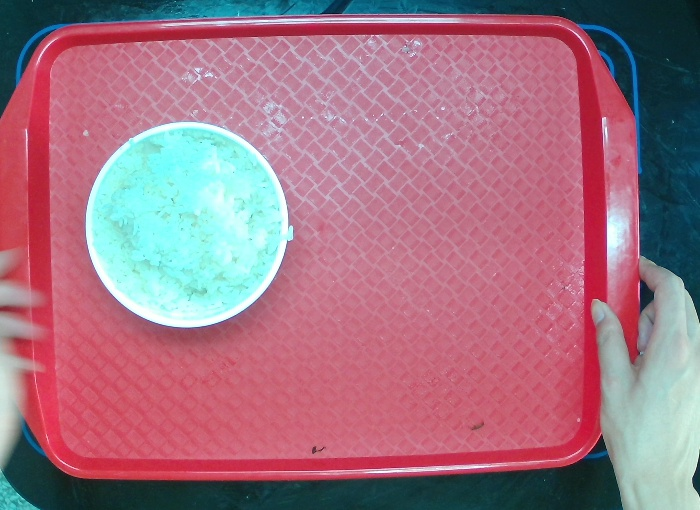YKMZ-Fan_Wan: (78, 112, 293, 329)
